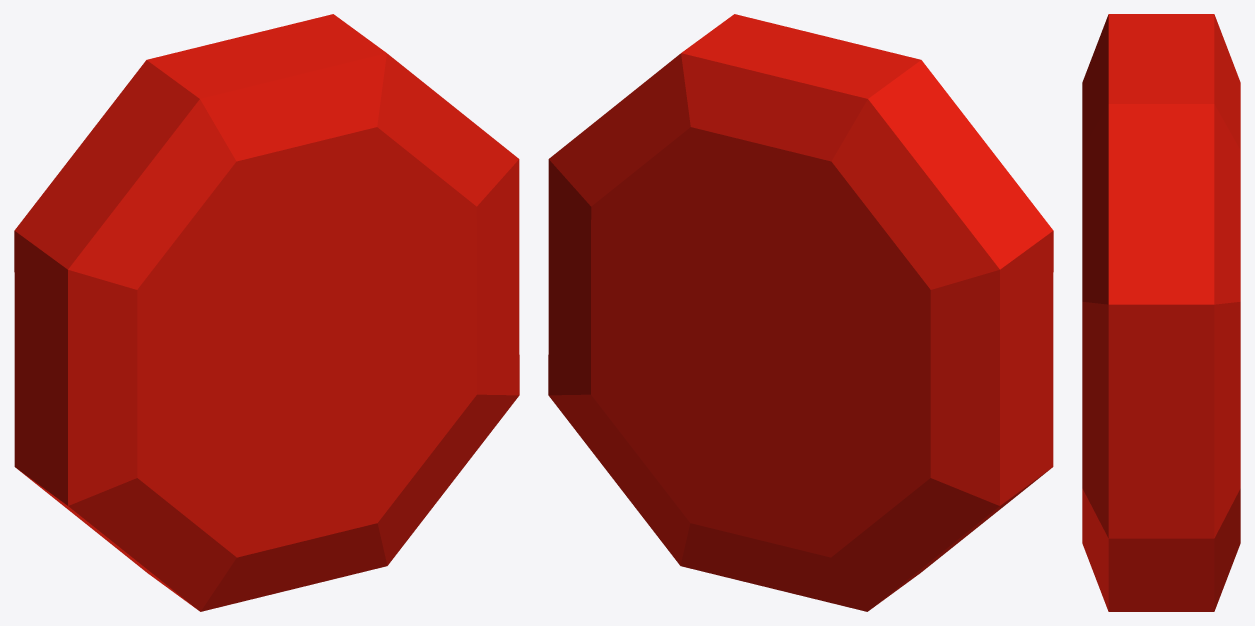
Rendered from kirmiziTas.fbx.
3 renders of one model, left to right at view 1: azimuth 30°, elevation 25°; view 2: azimuth 150°, elevation 25°; view 3: azimuth 270°, elevation 25°, orthographic.
Visible parts, largest first — view 1: kirmiziTas; view 2: kirmiziTas; view 3: kirmiziTas.
Boxes of the visible parts, box(x1,y1,x2,y2) form: kirmiziTas: box(14, 14, 519, 611); kirmiziTas: box(548, 14, 1053, 611); kirmiziTas: box(1082, 14, 1240, 611).
Bounding box in the file's own units: 199 × 216 × 61.25.
